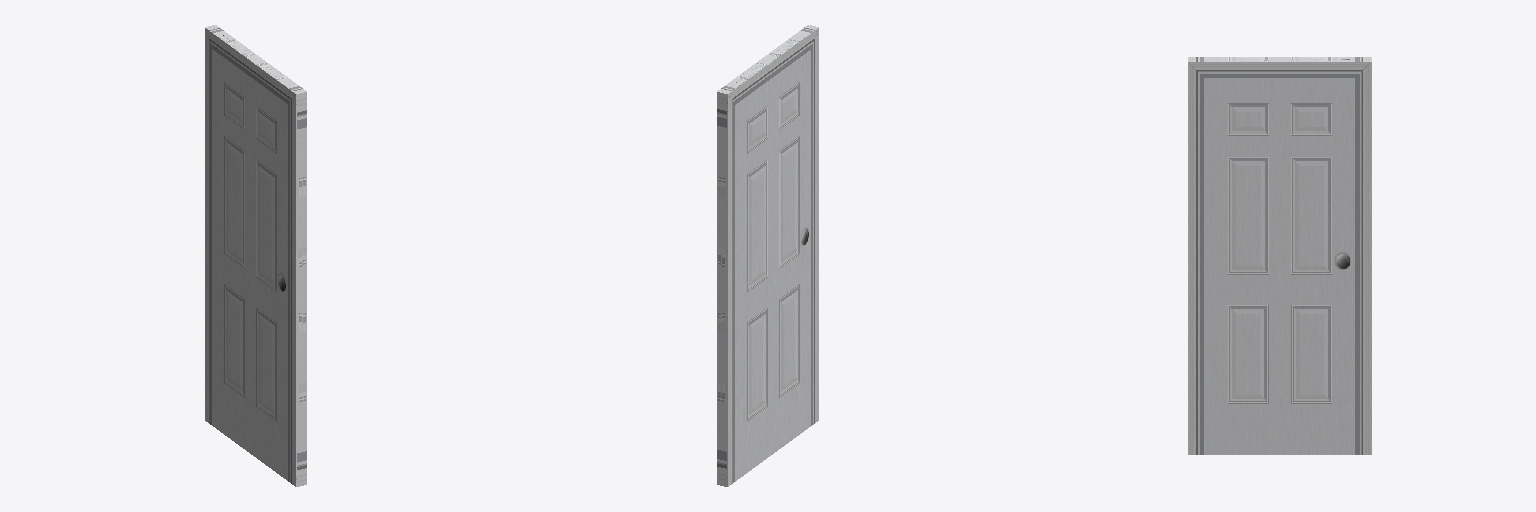
3 renders of one model, left to right at view 1: azimuth 30°, elevation 25°; view 2: azimuth 150°, elevation 25°; view 3: azimuth 270°, elevation 25°, orthographic.
Parts seen in each view (by area): view 1: Box004; view 2: Box004; view 3: Box004.
Part boxes in pixels (left/top/right/bottom): Box004: left=205, top=25, right=306, bottom=486; Box004: left=717, top=25, right=818, bottom=486; Box004: left=1188, top=57, right=1371, bottom=454.
Bounding box in the file's own units: 2.56 × 87.27 × 36.95.
1 materials, 1 textured.